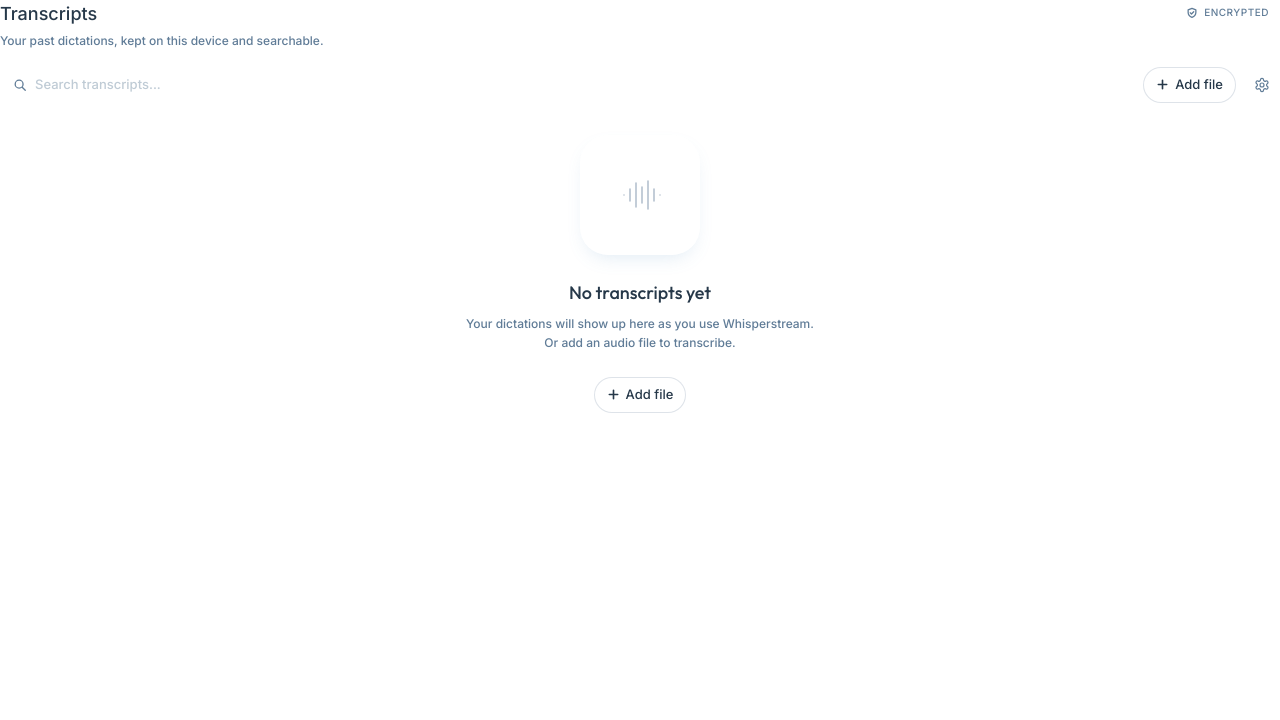
it: Recovery settings in the gear menu › opens recovery settings any time a confirmed key exists
Click the button named "Transcript settings" at [1262, 84], box [1244, 66, 1279, 102]
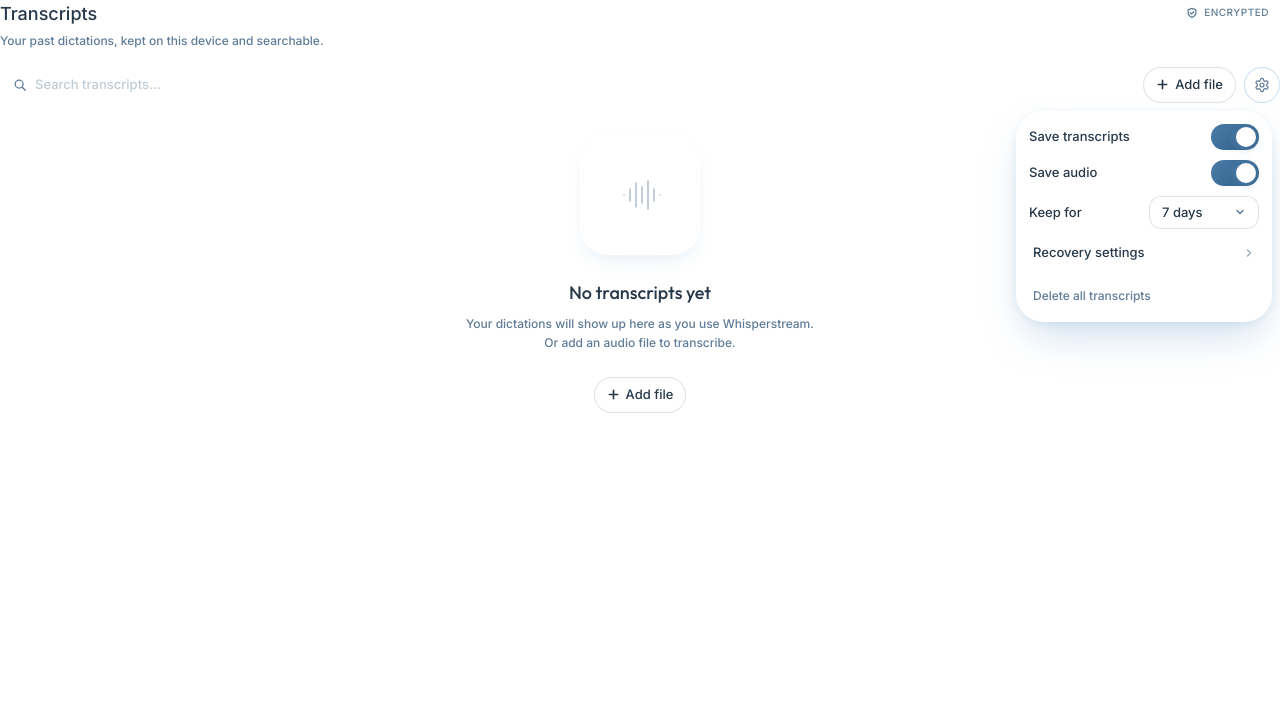
Click the menu item "Recovery settings" at [1144, 253], box [1029, 239, 1259, 266]
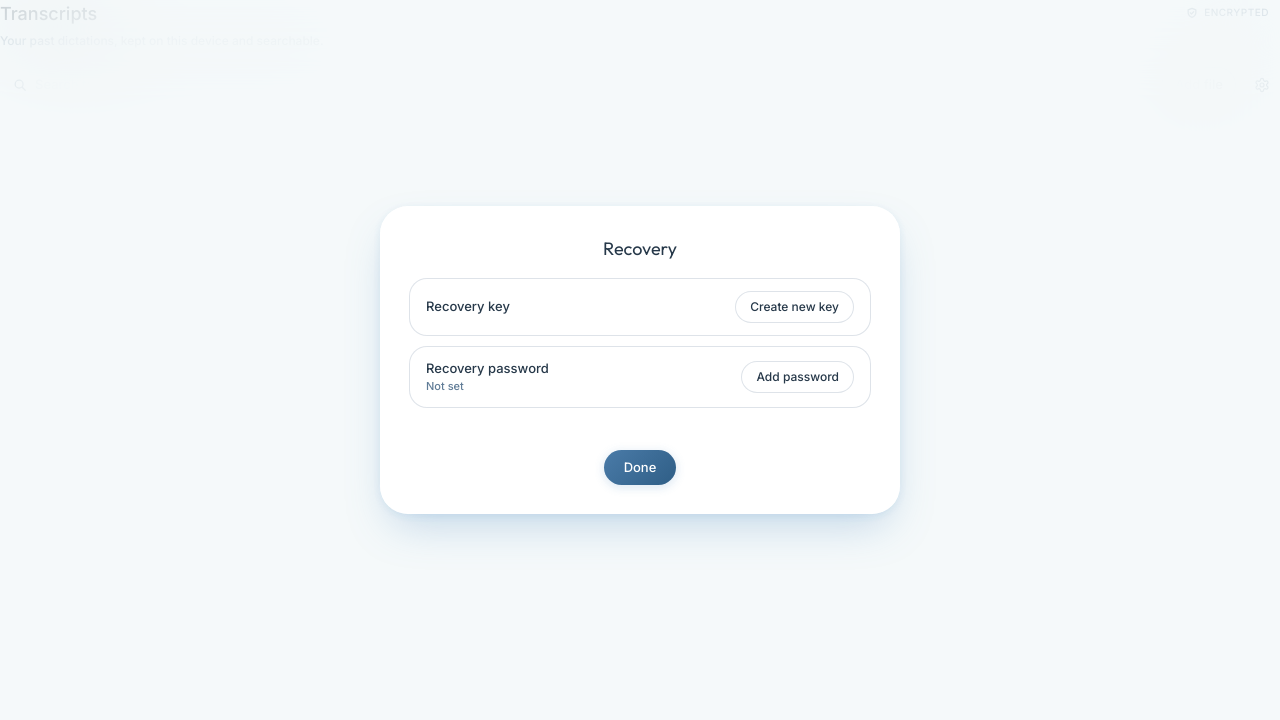
Check: the heading "Recovery" is shown, box [603, 237, 677, 260]
